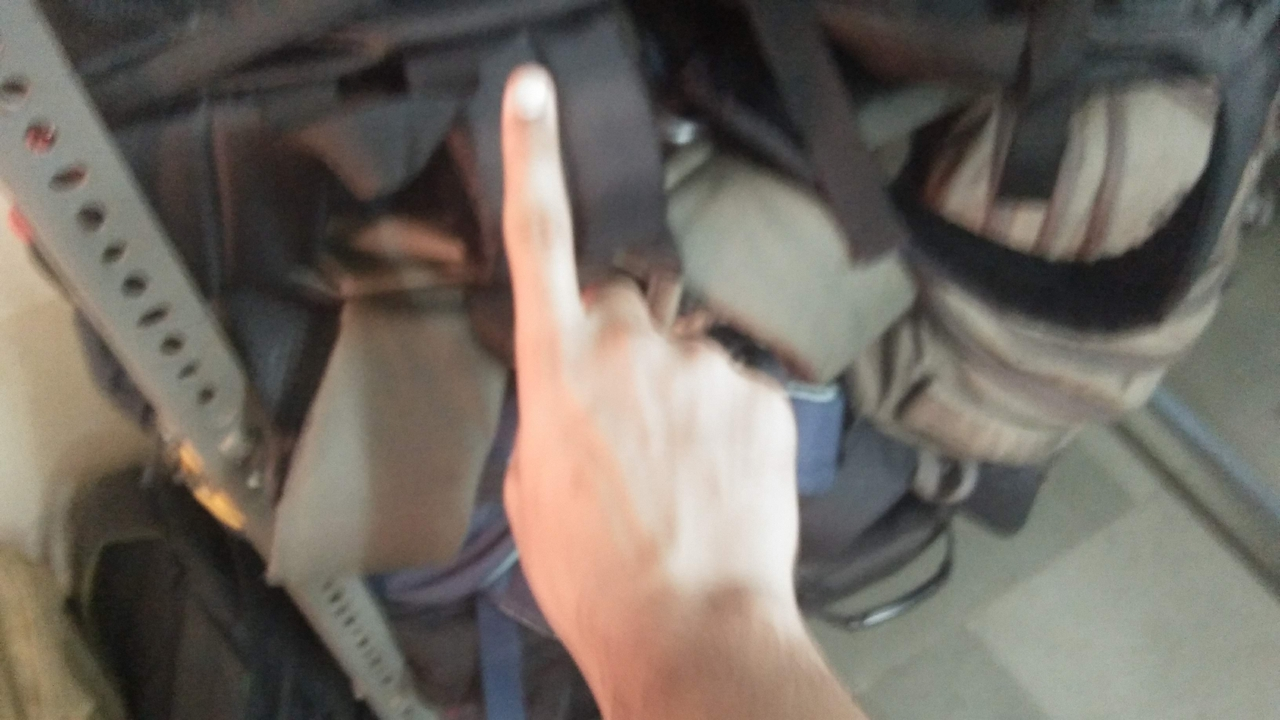fingertip: (498, 62, 562, 132)
